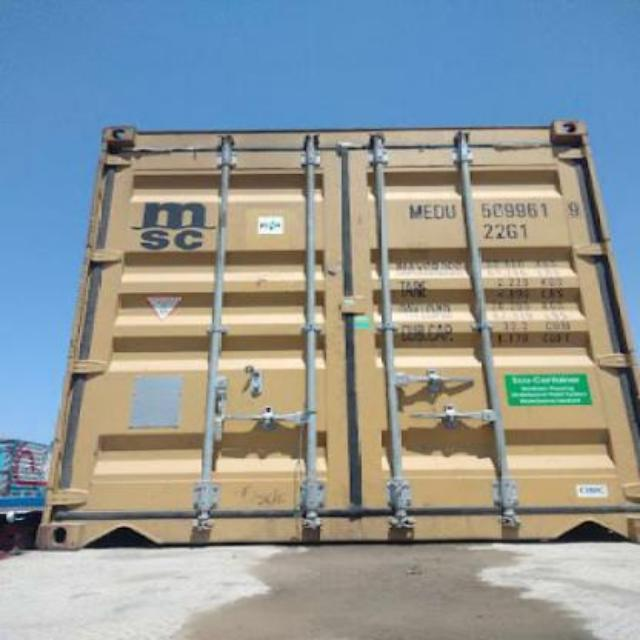0: (492, 200, 504, 216)
1: (540, 201, 550, 219)
5: (480, 201, 492, 217)
6: (526, 201, 538, 219)
9: (568, 200, 582, 216), (514, 201, 526, 217), (504, 201, 514, 217)
D: (432, 203, 446, 221)
E: (422, 203, 434, 221)
M: (408, 203, 424, 221)
U: (446, 204, 458, 220)
